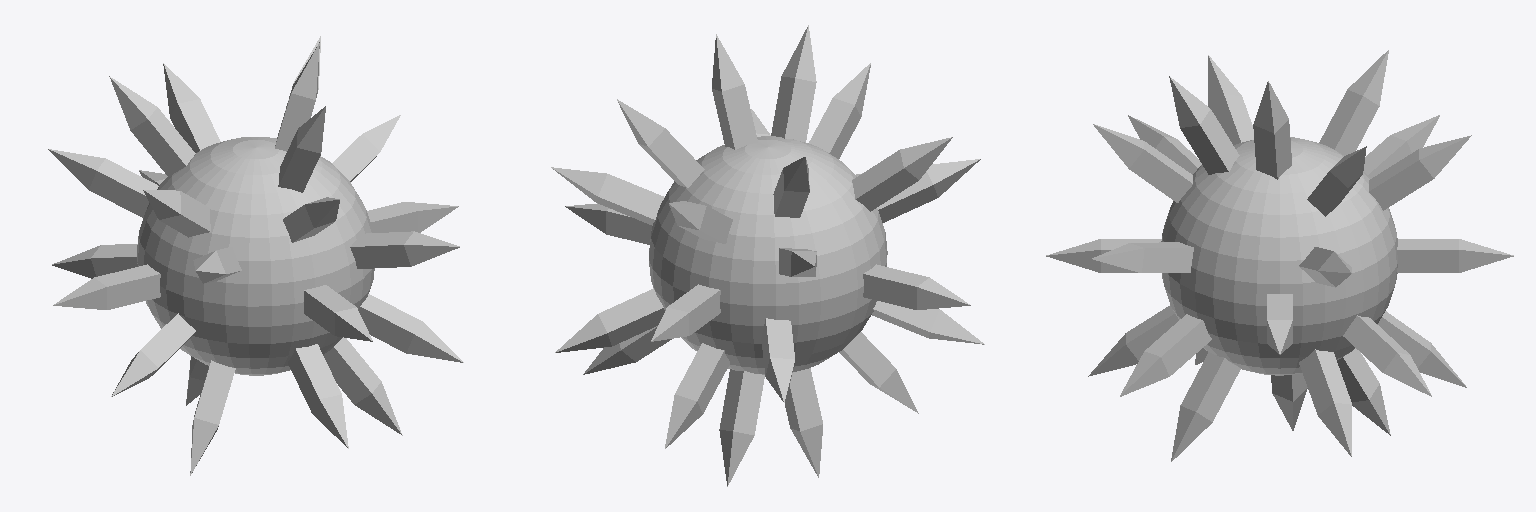
The model's file is mine.obj.
3 renders of one model, left to right at view 1: azimuth 30°, elevation 25°; view 2: azimuth 150°, elevation 25°; view 3: azimuth 270°, elevation 25°, orthographic.
Parts seen in each view (by area): view 1: Cube.003_Cube.006; view 2: Cube.003_Cube.006; view 3: Cube.003_Cube.006.
Boxes of the visible parts, box(x1,y1,x2,y2) form: Cube.003_Cube.006: box(48, 36, 463, 475); Cube.003_Cube.006: box(551, 25, 984, 486); Cube.003_Cube.006: box(1046, 50, 1513, 461).
Size of the model in its own units: 137 by 132 by 137.